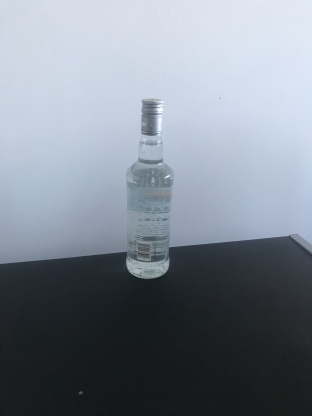nakretka: (139, 97, 164, 136)
